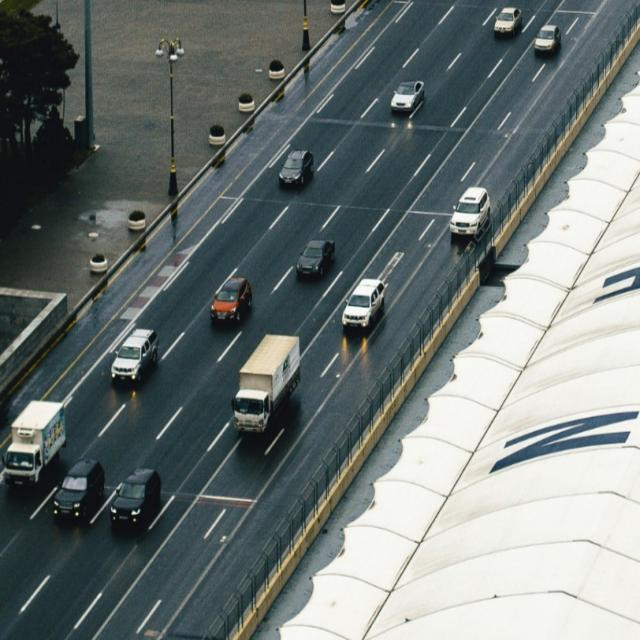car: (54, 460, 106, 520), (110, 469, 161, 526), (110, 328, 160, 382), (342, 278, 386, 331), (210, 277, 252, 324), (450, 187, 490, 236), (294, 239, 334, 277), (278, 148, 314, 188), (390, 80, 424, 113), (493, 7, 522, 35), (534, 25, 561, 54)
truck: (232, 333, 301, 434), (4, 400, 66, 488)
